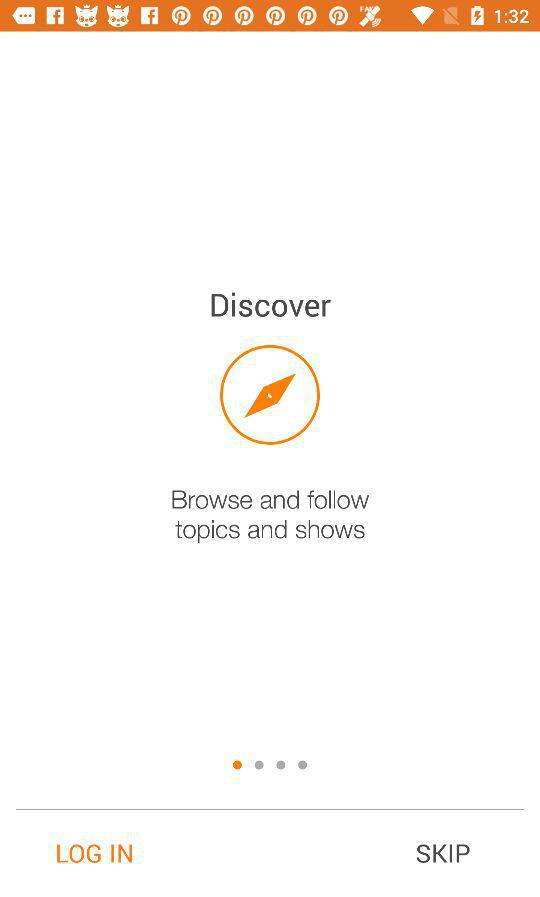Icon: (220, 345, 321, 446)
PageIndicator: (233, 760, 309, 770)
Text: (172, 490, 370, 544), (212, 292, 332, 318), (57, 844, 133, 864), (417, 843, 471, 863)
UpperTaskBar: (1, 1, 540, 33)
